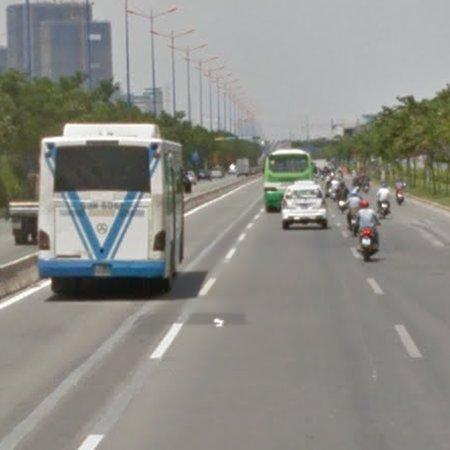buses: (38, 124, 184, 292), (265, 150, 313, 211)
